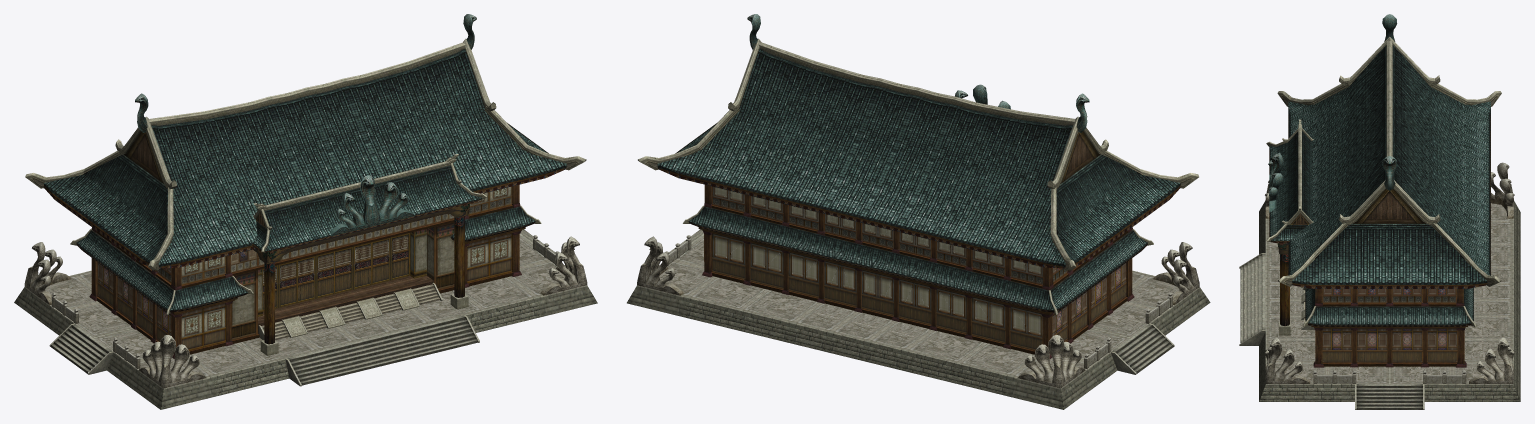
File: gls_a_02.fbx
3 views of the same model, side by side, from view 1: azimuth 30°, elevation 25°; view 2: azimuth 150°, elevation 25°; view 3: azimuth 270°, elevation 25° (orthographic). The views are drawn at different scales.
Parts seen in each view (by area): view 1: gls_A_02, gls_A_02_01; view 2: gls_A_02, gls_A_02_01; view 3: gls_A_02, gls_A_02_01.
Boxes of the visible parts, left/top/right/bottom form: gls_A_02: left=14, top=38, right=597, bottom=409; gls_A_02_01: left=24, top=14, right=587, bottom=388; gls_A_02: left=627, top=38, right=1210, bottom=409; gls_A_02_01: left=637, top=14, right=1199, bottom=388; gls_A_02: left=1239, top=36, right=1520, bottom=409; gls_A_02_01: left=1264, top=14, right=1514, bottom=383.
Bounding box in the file's own units: 32.75 × 16.46 × 18.88.
